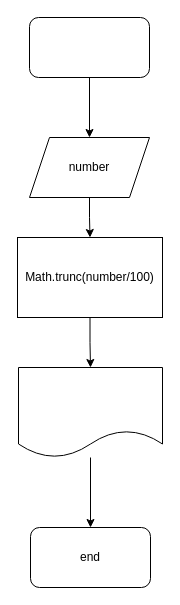
Some shapes in this 180 by 605 pixel diagram are drawn without their labels. The centre of each missing label's shape, as x and y in pixels:
start: (89,47)
Verilmish 3 mertebeli ededin 100-luk mertebesi: (90,412)
